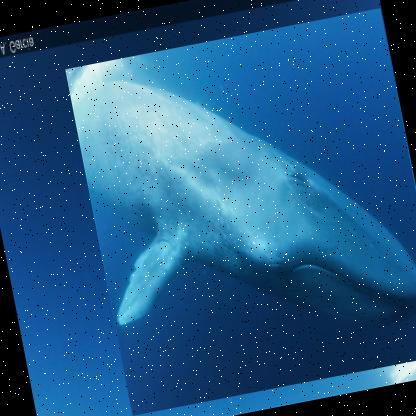blue_whale: (64, 5, 415, 415)
